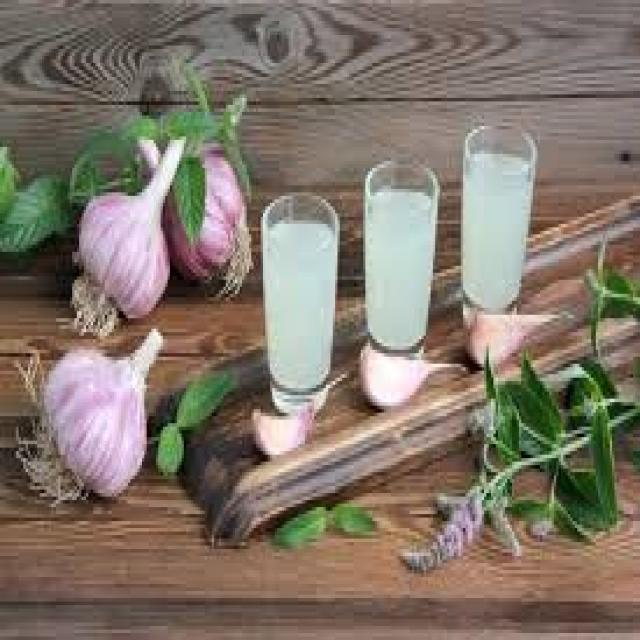Garlic: (26, 325, 167, 521), (71, 110, 195, 324), (138, 124, 258, 300), (357, 321, 446, 423), (456, 284, 538, 388), (231, 388, 312, 472)
